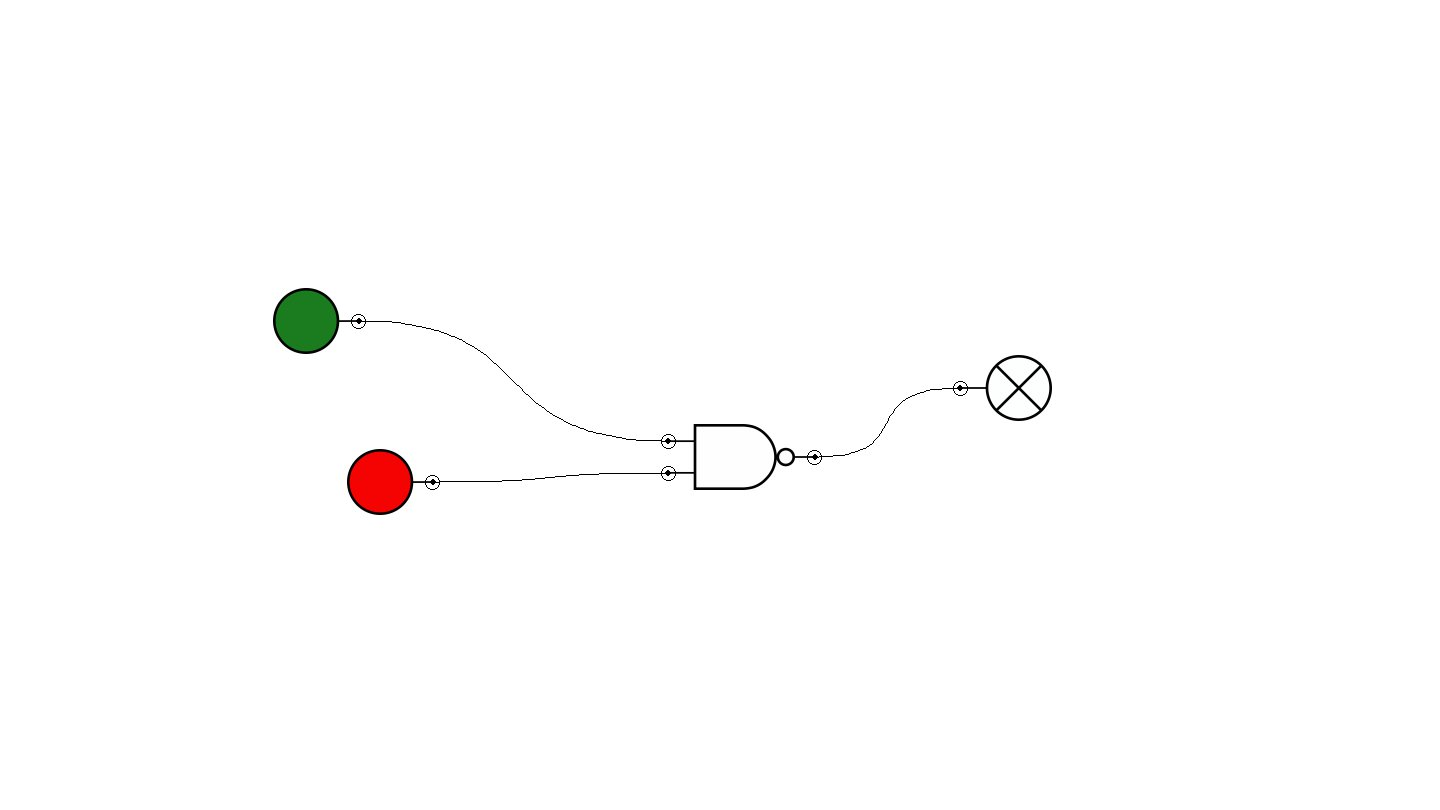bulb: (953, 355, 1052, 421)
nand: (661, 424, 822, 490)
switch_False: (347, 449, 440, 515)
switch_True: (273, 288, 366, 354)
